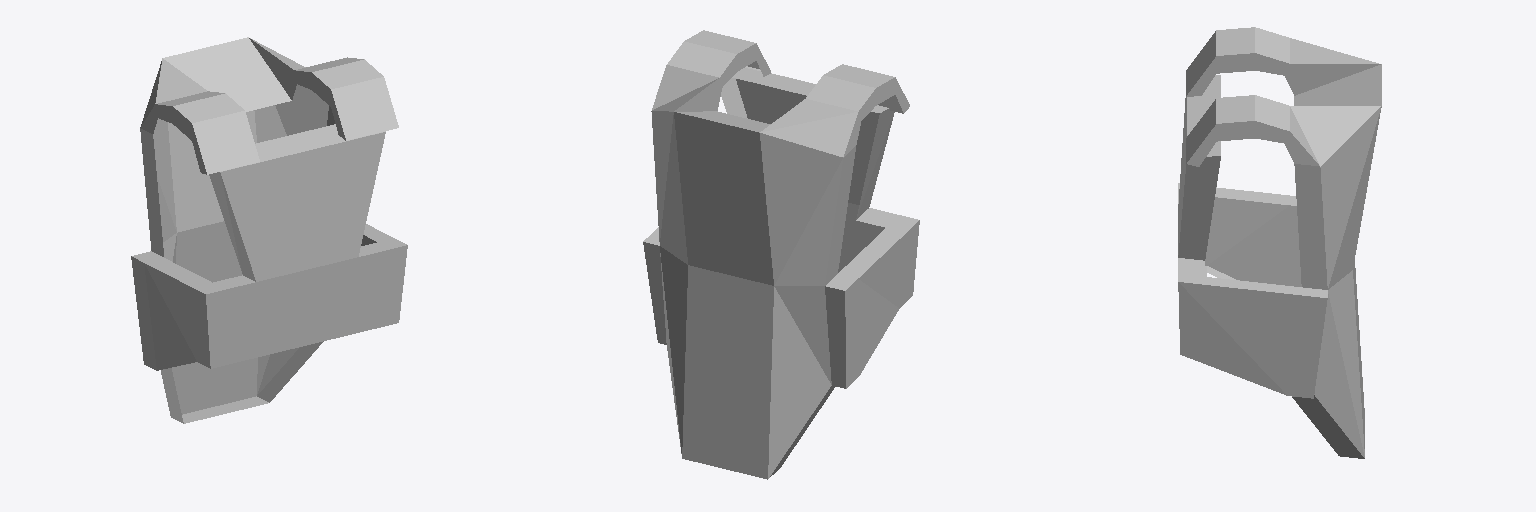
File: heavy_body_armor.obj
3 renders of one model, left to right at view 1: azimuth 30°, elevation 25°; view 2: azimuth 150°, elevation 25°; view 3: azimuth 270°, elevation 25°, orthographic.
Visible parts, largest first — view 1: Cube_Cube.001; view 2: Cube_Cube.001; view 3: Cube_Cube.001.
Part boxes in pixels (x1,y1,x2,y2): Cube_Cube.001: (131, 37, 407, 423); Cube_Cube.001: (643, 30, 919, 479); Cube_Cube.001: (1178, 27, 1381, 458).
Bounding box in the file's own units: 0.4418 × 0.7607 × 0.3852.